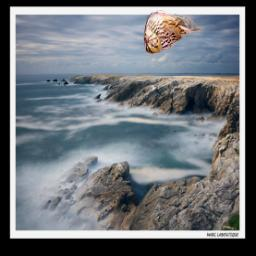Sparrow: (143, 10, 201, 54)
